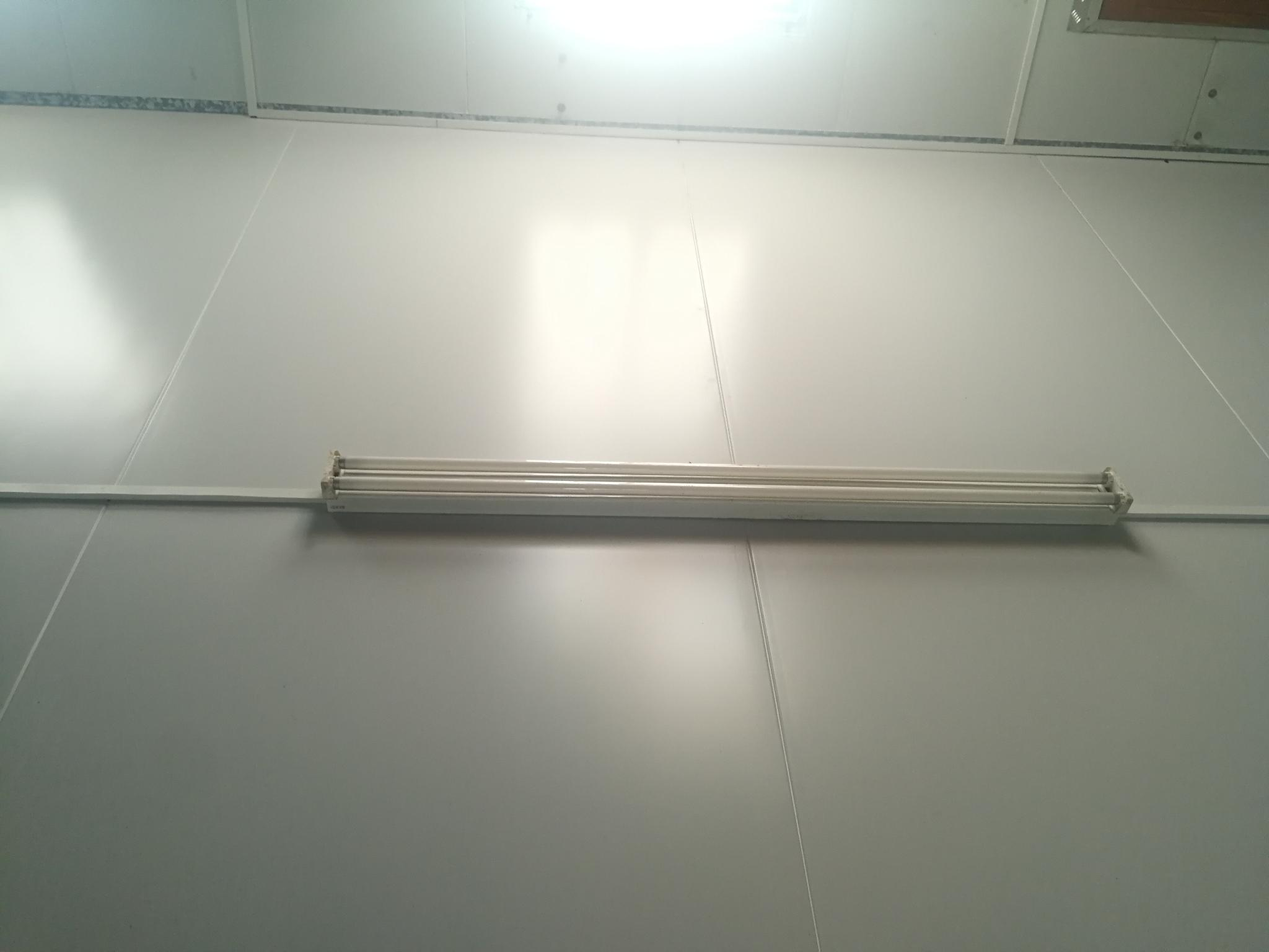light: (316, 446, 1137, 526)
